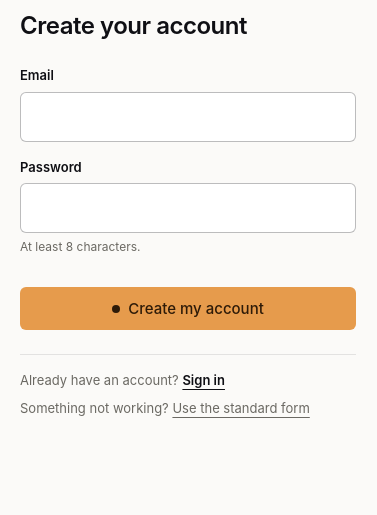
Test case: SignUpFlow › points to signing in when the email already has an account
Type "player@example.com" into the field labelled "Email".
click(188, 116); type("player@example.com")  # box [20, 92, 356, 142]
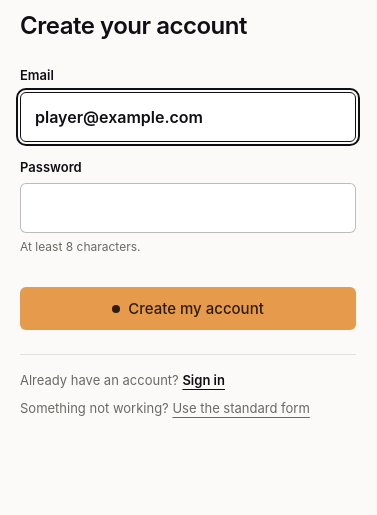
Type "a long password" into the password field labelled "Password At least 8 characters.".
click(188, 208); type("a long password")  # box [20, 183, 356, 233]
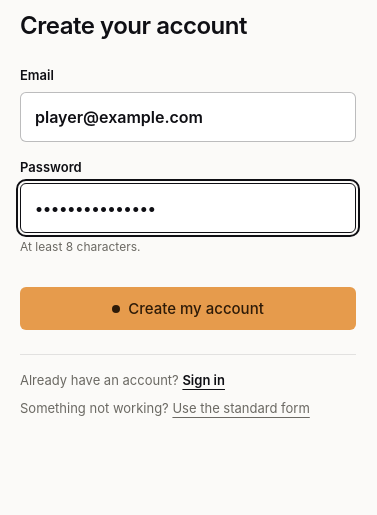
Click the button "Create my account".
click(188, 308)  # box [20, 287, 356, 330]
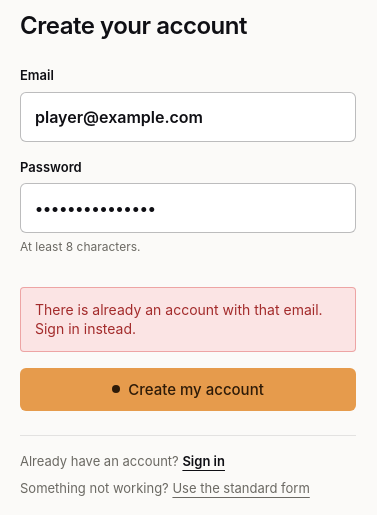
Now the message shows "already an account", box [35, 301, 323, 337]
